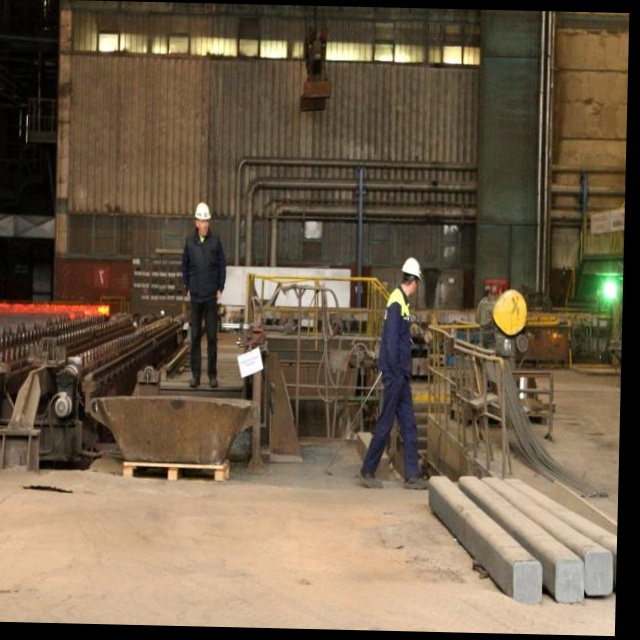Con_Casco: (402, 255, 423, 294), (195, 202, 211, 235)
Sin_Chaleco: (181, 234, 223, 297)
